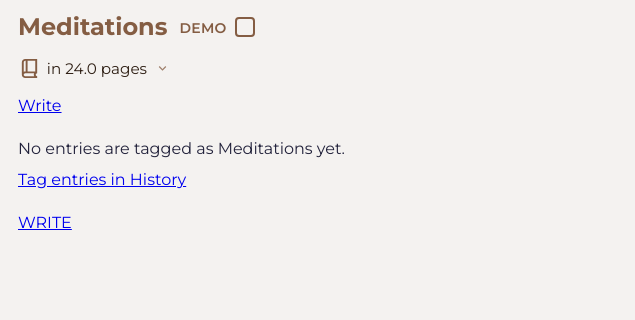
Test: JournalMeditations pages-left countdown › opens the goal menu and shows the 25 entries indicator
The image size is (635, 320).
Expected: the text "in 24.0 pages" is shown, [47,59,147,78]
Click the button with aria-label "Meditation progress goal": [97, 68] box [18,57,618,80]
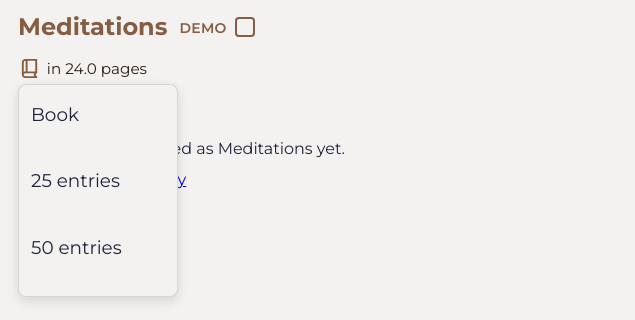
Click the menu item "25 entries": [98, 181] box [19,157,177,205]
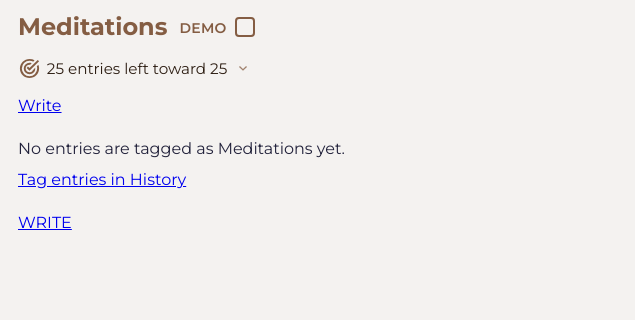
Expected: the button with aria-label "Meditation progress goal" reads "25 entries left toward 25", [18,57,618,80]
Expected: the menu is gone
Expected: the picture with class "journal-meditations__target-icon" is shown, [18,57,41,80]
